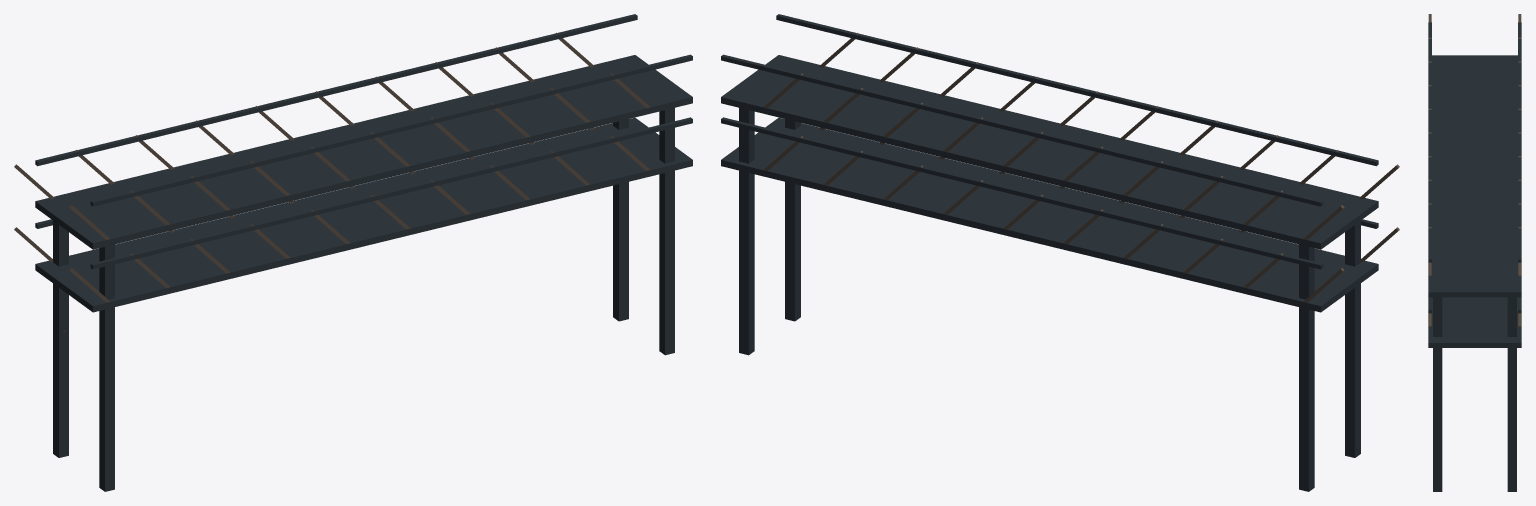
The model's file is ore-bridge-1.glb.
The picture shows the model from 3 angles, left to right: view 1: azimuth 30°, elevation 25°; view 2: azimuth 150°, elevation 25°; view 3: azimuth 270°, elevation 25°; orthographic projection. The views are drawn at different scales.
Visible parts, largest first — view 1: ore-bridge/0/KR-230-1; view 2: ore-bridge/0/KR-230-1; view 3: ore-bridge/0/KR-230-1.
Boxes of the visible parts, x1,y1,x2,y2 form: ore-bridge/0/KR-230-1: (14,14,692,491); ore-bridge/0/KR-230-1: (721,14,1399,491); ore-bridge/0/KR-230-1: (1428,14,1521,491).
Size of the model in its own units: 31.08 by 14.15 by 5.
